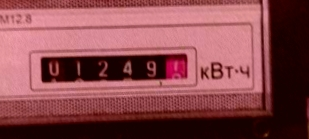0: (47, 56, 60, 77)
1: (72, 57, 82, 76)
2: (96, 57, 109, 77)
4: (121, 57, 132, 76)
7: (169, 53, 181, 72)
9: (144, 57, 157, 78)
screen: (21, 43, 196, 91)
